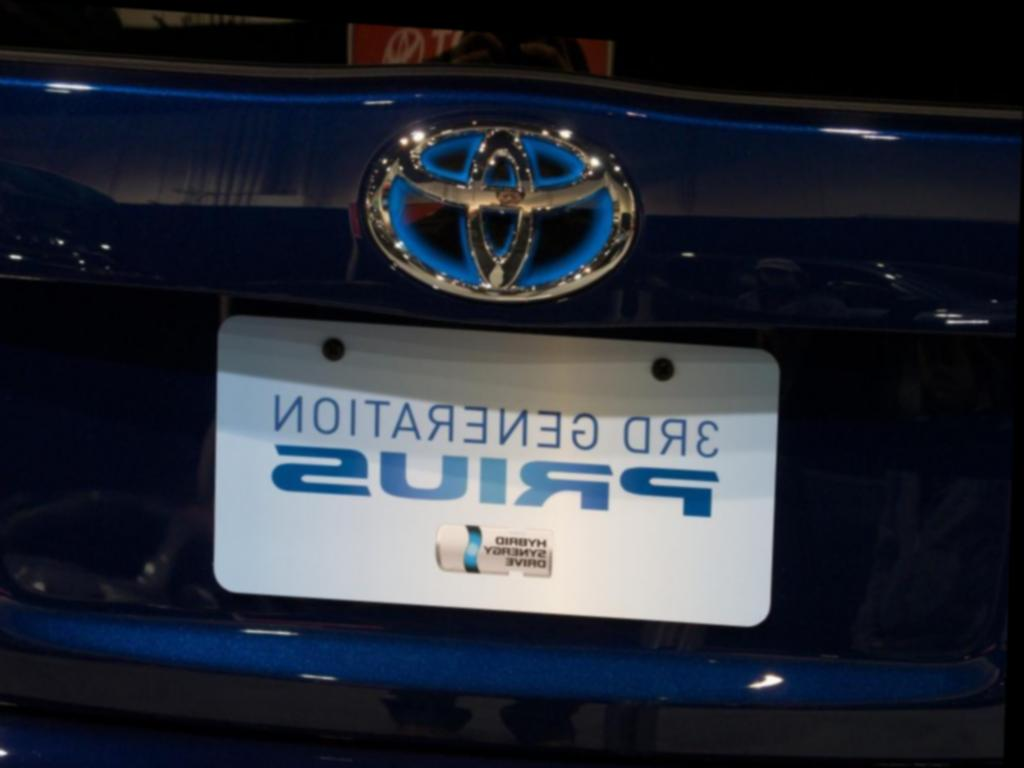License_Plate: (208, 313, 781, 629)
